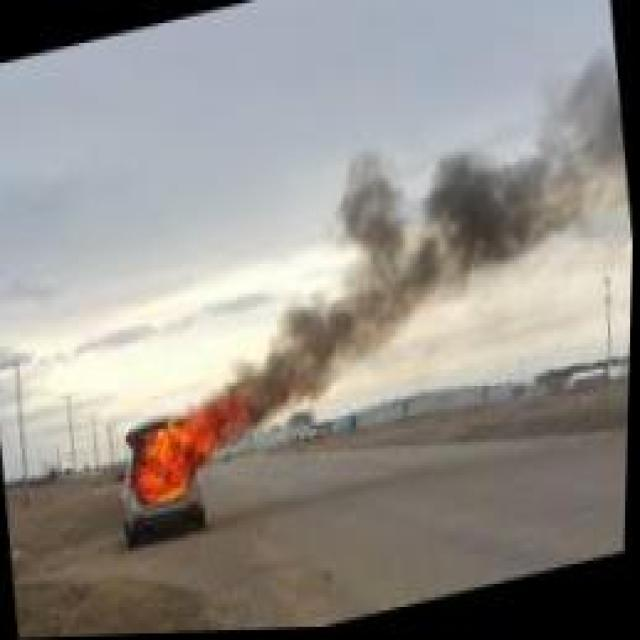Fire: (106, 376, 277, 531)
Smoke: (220, 39, 635, 426)
